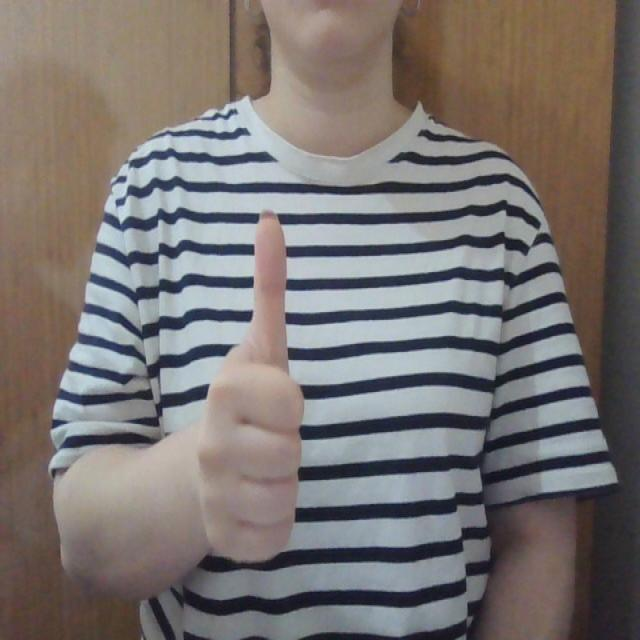Tamam: (189, 196, 318, 576)
